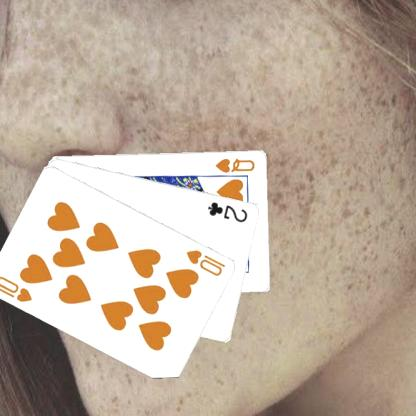10H: (184, 247, 226, 277), (0, 273, 34, 303)
2C: (206, 198, 249, 223)
QH: (213, 155, 257, 174)
